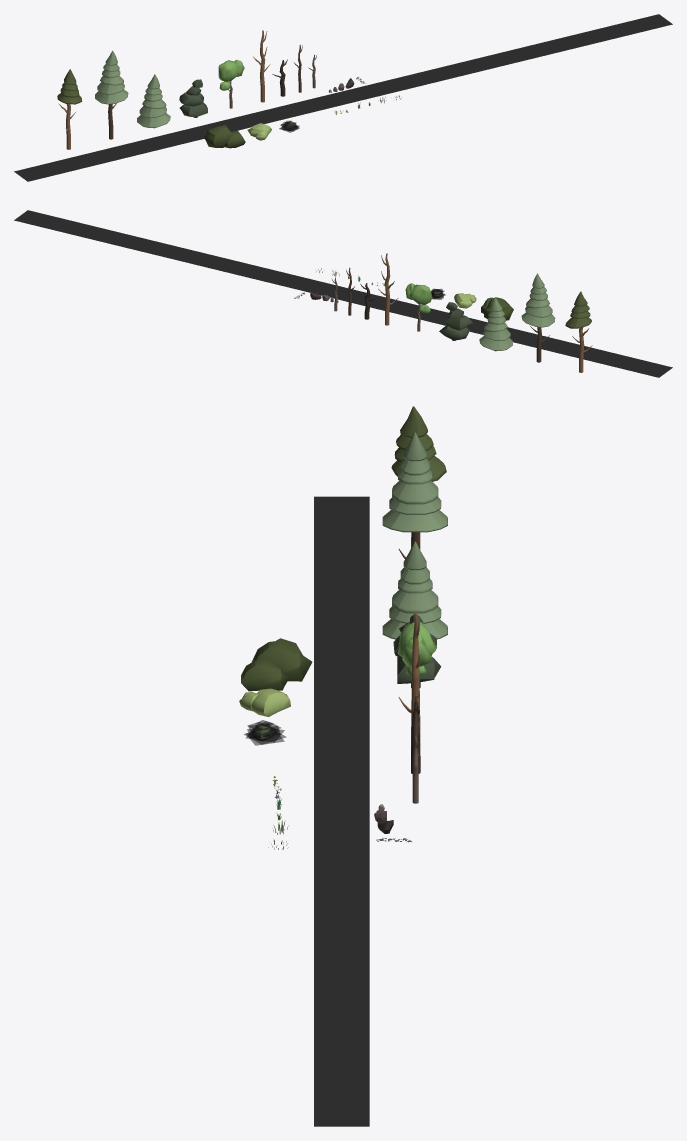
File: OutDoors_Foliage.fbx
3 renders of one model, top to bottom at view 1: azimuth 30°, elevation 25°; view 2: azimuth 150°, elevation 25°; view 3: azimuth 270°, elevation 25°, orthographic. The views are drawn at different scales.
Visible parts, largest first — view 1: Road, Tree_Fern_Small_Leaves1, Tree_Fern_Small_Leaves, Tree_FernSmall_Leaves, Bushes_Big2, Tree_Puffs_Leaves_MATT, Tree_Fern_Long_Bare, Tree_Thick_Leaves1; view 2: Road, Tree_Fern_Small_Leaves1, Tree_Fern_Small_Leaves, Tree_FernSmall_Leaves, Tree_Puffs_Leaves_MATT, Tree_Fern_Long_Bare, Tree_Thick_Leaves1, Bushes_Big2, Tree_Thick_Leaves2; view 3: Road, Tree_Fern_Small_Leaves1, Tree_Fern_Small_Leaves, Bushes_Big2, Tree_FernSmall_Leaves, Bushes_Big1.
Part boxes in pixels (left/top/right/bottom): Road: left=14, top=14, right=672, bottom=181; Tree_Fern_Small_Leaves1: left=95, top=50, right=128, bottom=104; Tree_Fern_Small_Leaves: left=137, top=74, right=170, bottom=127; Tree_FernSmall_Leaves: left=57, top=69, right=82, bottom=104; Bushes_Big2: left=203, top=125, right=232, bottom=147; Tree_Puffs_Leaves_MATT: left=218, top=60, right=238, bottom=81; Tree_Fern_Long_Bare: left=253, top=30, right=267, bottom=102; Tree_Thick_Leaves1: left=179, top=102, right=207, bottom=116; Road: left=14, top=210, right=672, bottom=377; Tree_Fern_Small_Leaves1: left=521, top=273, right=555, bottom=327; Tree_Fern_Small_Leaves: left=479, top=297, right=512, bottom=350; Tree_FernSmall_Leaves: left=565, top=291, right=591, bottom=328; Tree_Puffs_Leaves_MATT: left=409, top=284, right=432, bottom=304; Tree_Fern_Long_Bare: left=381, top=253, right=394, bottom=325; Tree_Thick_Leaves1: left=439, top=325, right=470, bottom=339; Bushes_Big2: left=484, top=297, right=513, bottom=320; Tree_Thick_Leaves2: left=445, top=315, right=472, bottom=330; Road: left=314, top=496, right=369, bottom=1126; Tree_Fern_Small_Leaves1: left=382, top=432, right=447, bottom=532; Tree_Fern_Small_Leaves: left=382, top=541, right=447, bottom=639; Bushes_Big2: left=251, top=638, right=312, bottom=681; Tree_FernSmall_Leaves: left=391, top=406, right=446, bottom=481; Bushes_Big1: left=241, top=659, right=288, bottom=691.
Bounding box in the file's own units: 15576 × 2023 × 2183.
